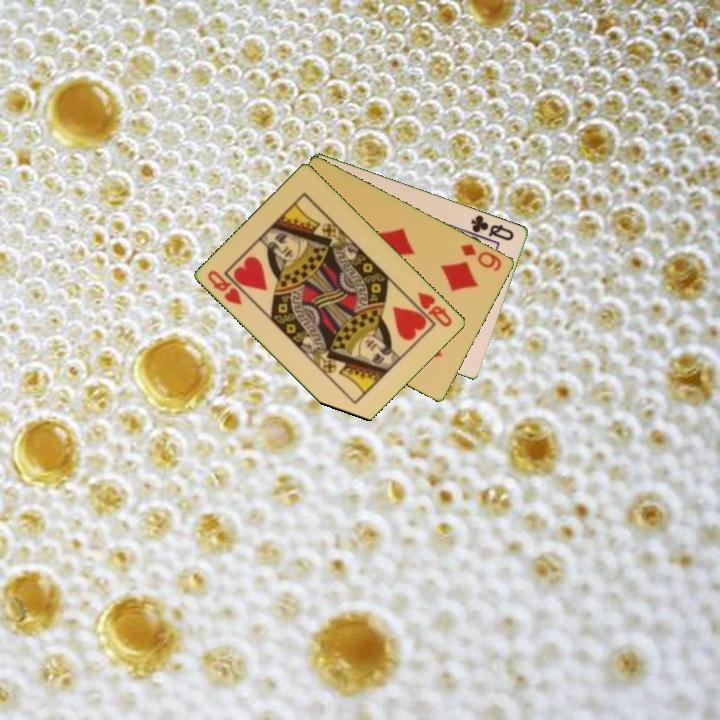6d: (457, 240, 505, 274)
Qc: (467, 211, 517, 244)
Qh: (414, 288, 456, 330), (204, 266, 245, 308)
